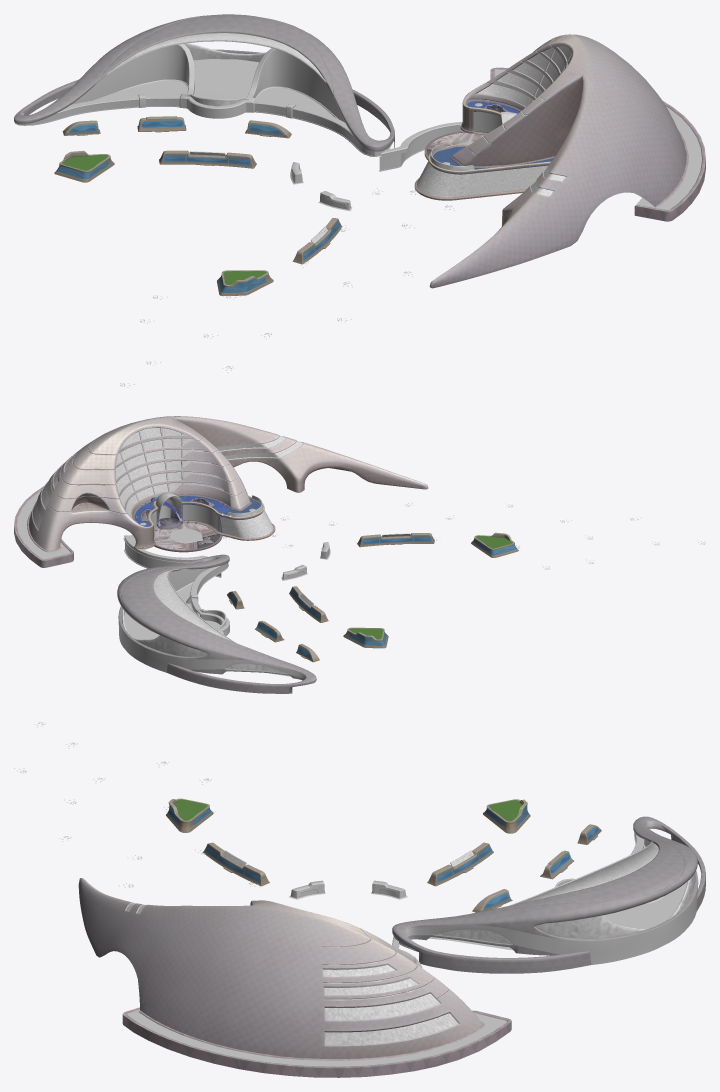
File: pref_Area_Red_Base_beta_01_lv3.fbx
3 views of the same model, one above another, from view 1: azimuth 30°, elevation 25°; view 2: azimuth 150°, elevation 25°; view 3: azimuth 270°, elevation 25° (orthographic). The views are drawn at different scales.
Parts seen in each view (by area): view 1: sm_beach_techborn01a_lv3, sm_beach_techpagoda01_d_lv3, sm_beach_techborn05a_lv3, sm_beach_techpagoda01_e_lv3, sm_beach_techpagoda01_b_lv3, sm_beach_techpagoda01_c_lv3, sm_beach_techpagoda01_a_lv3, pref_sm_beach_techobstacle07c_lv3 (×2), sm_beach_techborn06a_lv3, pref_sm_beach_techborn01_e_02_lv3, sm_beach_techobstacle07d_a_mirror_lv3, pref_sm_beach_techobstacle07d1_mirror_lv3 (+3 smaller); view 2: sm_beach_techborn01a_lv3, sm_beach_techborn05a_lv3, sm_beach_techpagoda01_c_lv3, sm_beach_techpagoda01_d_lv3, sm_beach_techpagoda01_a_lv3, sm_beach_techpagoda01_e_lv3, sm_beach_techpagoda01_b_lv3, pref_sm_beach_techobstacle07c_lv3 (×2), pref_sm_beach_techborn01_e_02_lv3, sm_beach_techborn06a_lv3, pref_sm_beach_techobstacle07d1_mirror_lv3, sm_beach_techobstacle07d_a_mirror_lv3 (+1 smaller); view 3: sm_beach_techborn01a_lv3, sm_beach_techpagoda01_b_lv3, sm_beach_techpagoda01_d_lv3, sm_beach_techborn05a_lv3, sm_beach_techpagoda01_a_lv3, sm_beach_techpagoda01_c_lv3, sm_beach_techborn06a_lv3, pref_sm_beach_techobstacle07c_lv3 (×2), sm_beach_techpagoda01_e_lv3, sm_beach_techobstacle07d_a_mirror_lv3, pref_sm_beach_techobstacle07d1_mirror_lv3, pref_sm_beach_techobstacle11_L_alpha_01_lv3.
Boxes of the visible parts, bbox=[...] form: sm_beach_techborn01a_lv3: bbox=[414, 34, 705, 288]; sm_beach_techpagoda01_d_lv3: bbox=[93, 40, 393, 156]; sm_beach_techborn05a_lv3: bbox=[417, 46, 571, 197]; sm_beach_techpagoda01_e_lv3: bbox=[15, 40, 238, 125]; sm_beach_techpagoda01_b_lv3: bbox=[237, 15, 394, 151]; sm_beach_techpagoda01_c_lv3: bbox=[14, 14, 246, 123]; sm_beach_techpagoda01_a_lv3: bbox=[114, 33, 322, 106]; pref_sm_beach_techobstacle07c_lv3 (×2): bbox=[159, 150, 342, 264]; sm_beach_techborn06a_lv3: bbox=[494, 70, 701, 209]; pref_sm_beach_techborn01_e_02_lv3: bbox=[379, 122, 462, 171]; sm_beach_techobstacle07d_a_mirror_lv3: bbox=[54, 150, 114, 182]; pref_sm_beach_techobstacle07d1_mirror_lv3: bbox=[217, 270, 273, 296]; sm_beach_techborn01a_lv3: bbox=[14, 416, 428, 567]; sm_beach_techborn05a_lv3: bbox=[33, 428, 303, 538]; sm_beach_techpagoda01_c_lv3: bbox=[121, 596, 316, 693]; sm_beach_techpagoda01_d_lv3: bbox=[118, 557, 229, 649]; sm_beach_techpagoda01_a_lv3: bbox=[121, 569, 286, 673]; sm_beach_techpagoda01_e_lv3: bbox=[125, 594, 315, 683]; sm_beach_techpagoda01_b_lv3: bbox=[117, 554, 229, 630]; pref_sm_beach_techobstacle07c_lv3 (×2): bbox=[289, 533, 434, 622]; pref_sm_beach_techborn01_e_02_lv3: bbox=[123, 535, 221, 577]; sm_beach_techborn06a_lv3: bbox=[17, 491, 70, 559]; pref_sm_beach_techobstacle07d1_mirror_lv3: bbox=[471, 532, 518, 557]; sm_beach_techobstacle07d_a_mirror_lv3: bbox=[343, 627, 388, 648]; sm_beach_techborn01a_lv3: bbox=[78, 878, 511, 1077]; sm_beach_techpagoda01_b_lv3: bbox=[392, 876, 659, 973]; sm_beach_techpagoda01_d_lv3: bbox=[393, 846, 687, 964]; sm_beach_techborn05a_lv3: bbox=[126, 903, 458, 1044]; sm_beach_techpagoda01_a_lv3: bbox=[433, 842, 695, 944]; sm_beach_techpagoda01_c_lv3: bbox=[625, 816, 705, 927]; sm_beach_techborn06a_lv3: bbox=[128, 1010, 506, 1066]; pref_sm_beach_techobstacle07c_lv3 (×2): bbox=[202, 842, 493, 886]; sm_beach_techpagoda01_e_lv3: bbox=[610, 821, 698, 945]; sm_beach_techobstacle07d_a_mirror_lv3: bbox=[483, 799, 530, 833]; pref_sm_beach_techobstacle07d1_mirror_lv3: bbox=[166, 798, 213, 832]; pref_sm_beach_techobstacle11_L_alpha_01_lv3: bbox=[289, 880, 407, 899].
Size of the model in its own units: 118 by 19.44 by 99.73.
